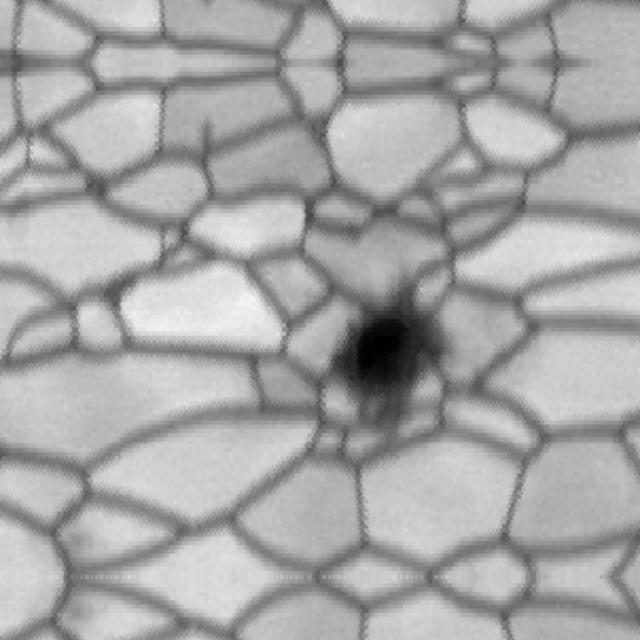good_void: (318, 269, 458, 439)
